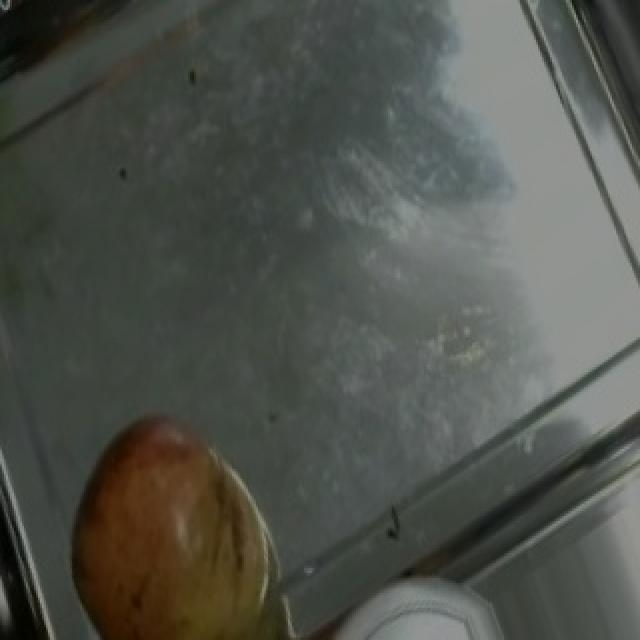fruit: (38, 379, 304, 640)
